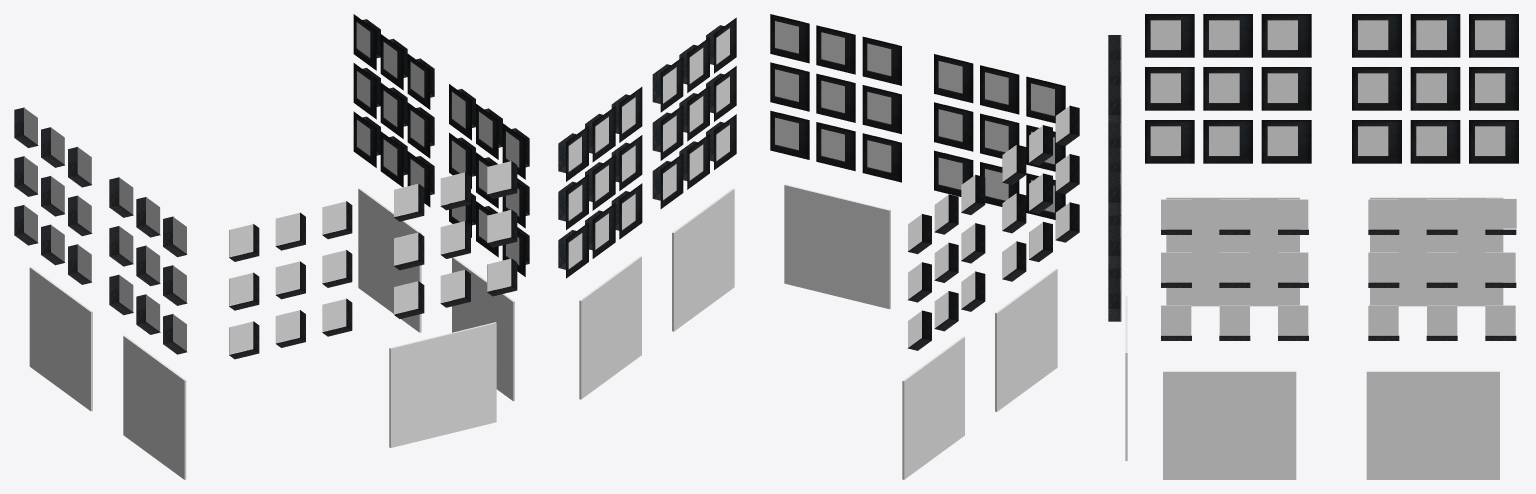
Rendered from ElevatorBomb.fbx.
3 views of the same model, side by side, from view 1: azimuth 30°, elevation 25°; view 2: azimuth 150°, elevation 25°; view 3: azimuth 270°, elevation 25° (orthographic). The views are drawn at different scales.
Parts seen in each view (by area): view 1: Cube (×5), StencilWindow (×18), DeepBacking (×15); view 2: Cube (×5), DeepBacking (×33), StencilWindow (×16); view 3: Cube (×5), StencilWindow (×36), DeepBacking (×22).
Boxes of the visible parts, x1=… form: Cube (×5): x1=29, y1=188, x2=514, y2=479; StencilWindow (×18): x1=229, y1=161, x2=511, y2=354; DeepBacking (×15): x1=353, y1=14, x2=529, y2=276; Cube (×5): x1=579, y1=184, x2=1057, y2=479; DeepBacking (×33): x1=558, y1=14, x2=1065, y2=278; StencilWindow (×16): x1=775, y1=21, x2=1054, y2=200; Cube (×5): x1=1125, y1=197, x2=1503, y2=479; StencilWindow (×36): x1=1150, y1=20, x2=1516, y2=335; DeepBacking (×22): x1=1108, y1=14, x2=1518, y2=321.
Bounding box in the file's own units: 1.92 × 1.36 × 1.77.
Materials: 3 (1 with a texture image).
